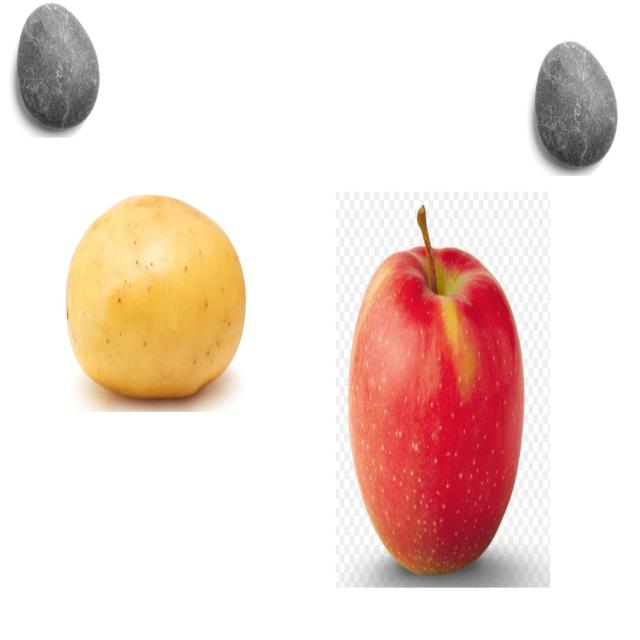potato: (65, 195, 245, 399)
